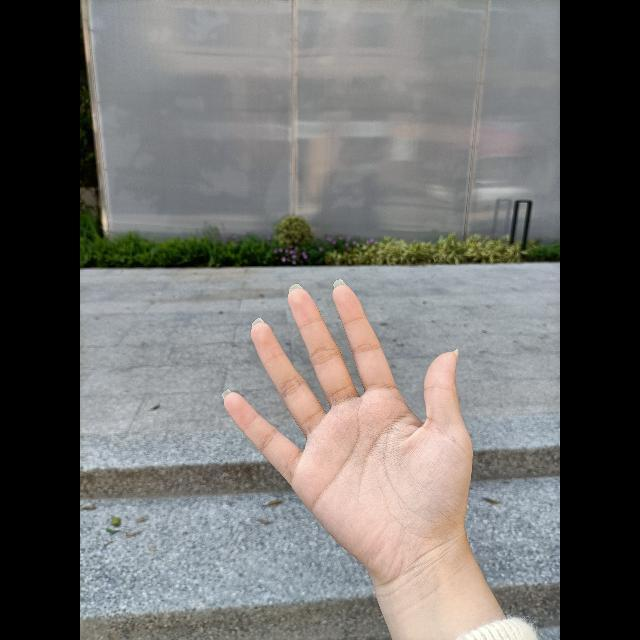bare_hand: (222, 282, 495, 623)
